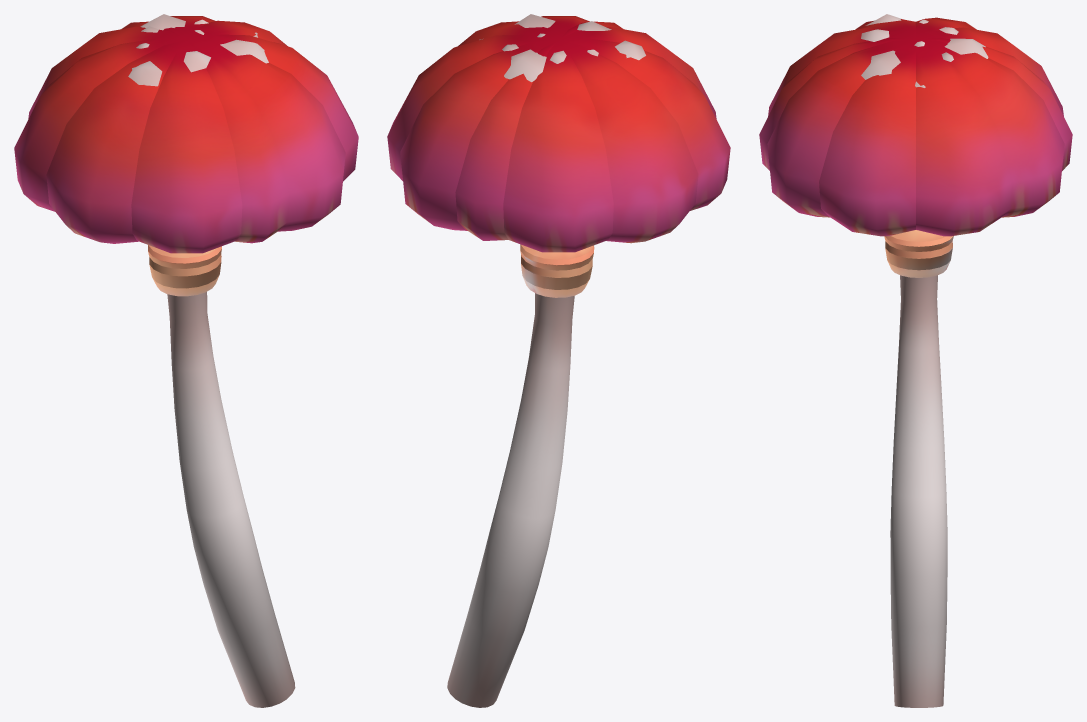
File: Long_mushroom_5.fbx
The picture shows the model from 3 angles, left to right: view 1: azimuth 30°, elevation 25°; view 2: azimuth 150°, elevation 25°; view 3: azimuth 270°, elevation 25°; orthographic projection. The views are drawn at different scales.
Visible parts, largest first — view 1: Object010, Object015, Cylinder011; view 2: Object010, Object015, Cylinder011; view 3: Object010, Object015, Cylinder011.
Part boxes in pixels (<box>): Object010: <box>14,16,358,253</box>; Object015: <box>148,245,295,707</box>; Cylinder011: <box>128,14,268,86</box>; Object010: <box>387,16,730,252</box>; Object015: <box>447,244,594,707</box>; Cylinder011: <box>479,14,645,82</box>; Object010: <box>759,17,1072,236</box>; Object015: <box>884,230,953,707</box>; Cylinder011: <box>861,14,988,87</box>.
Size of the model in its own units: 1.94 by 4.39 by 1.95.
